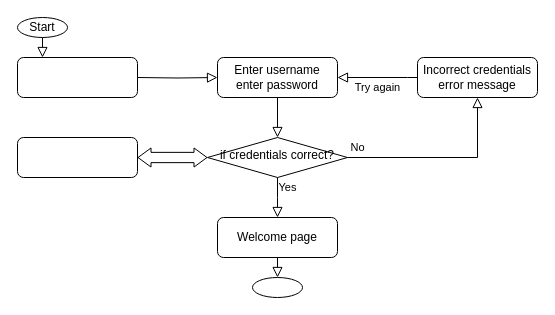
Some shapes in this 555 by 315 pixel diagram are drawn without their labels. The box of each missing label's shape, as (x1, y1, x2, y2) in pixels:
Database: (16, 136, 138, 178)
End: (252, 276, 302, 298)
Login page: (16, 56, 138, 98)
